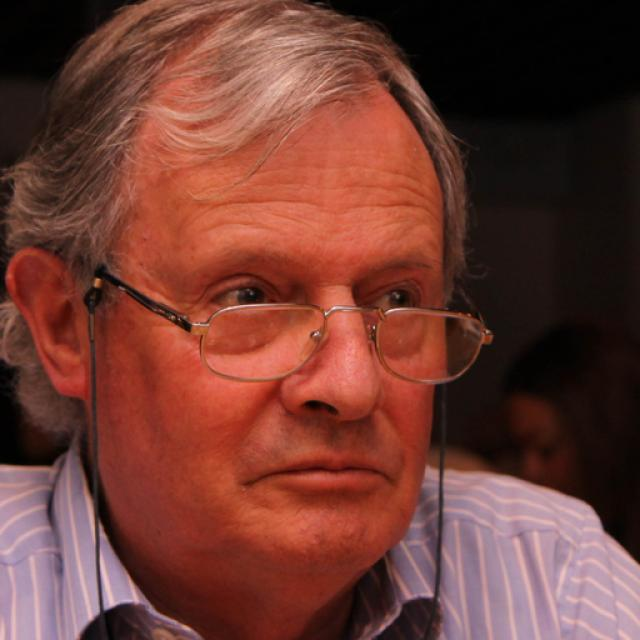Wrinkle: (198, 190, 441, 222), (220, 155, 332, 183), (195, 213, 301, 241), (360, 160, 436, 189)
